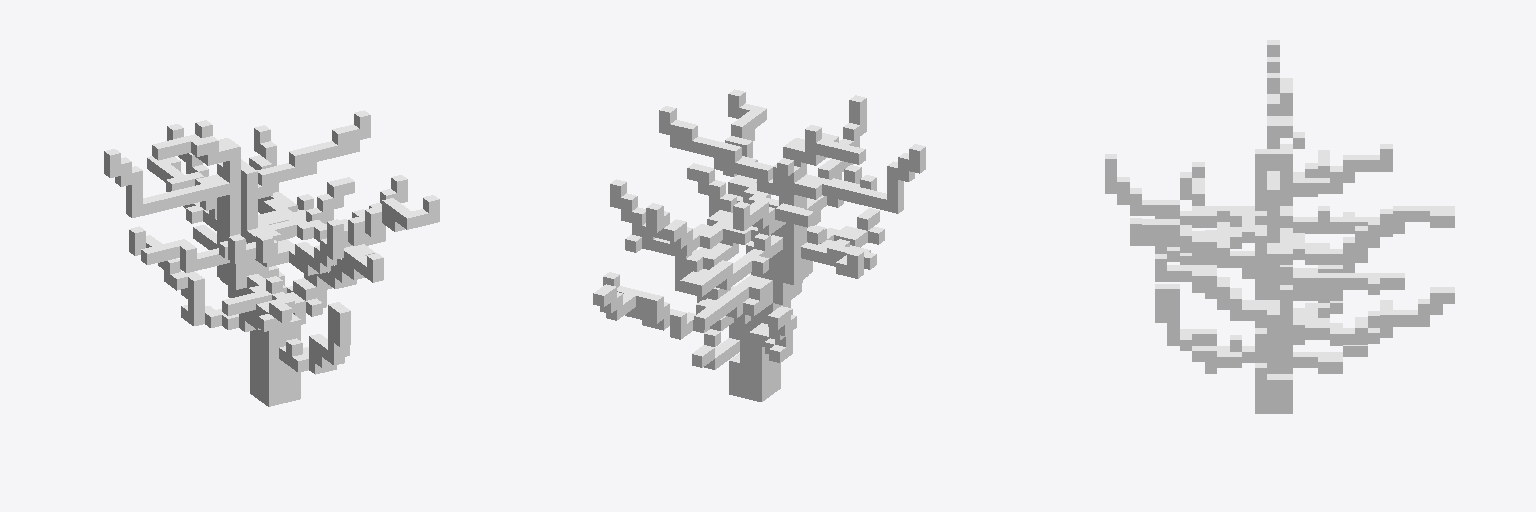
Rendered from ScaryTree.obj.
The picture shows the model from 3 angles: view 1: azimuth 30°, elevation 25°; view 2: azimuth 150°, elevation 25°; view 3: azimuth 270°, elevation 25°; orthographic projection.
Size of the model in its own units: 28 by 25 by 28.